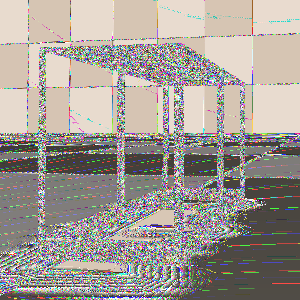Rack: (35, 42, 246, 267)
